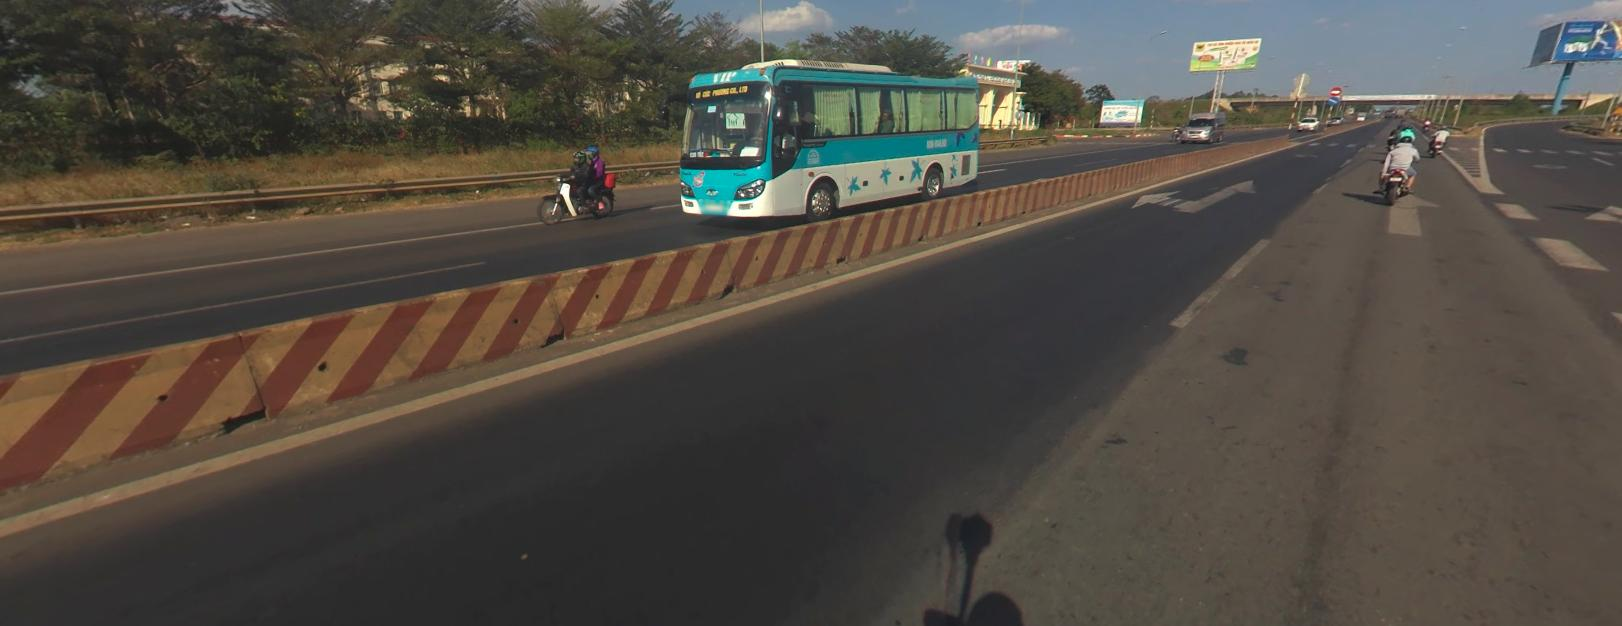Cam nguoc chieu: (1329, 85, 1341, 95)
Hieu lenh: (1327, 96, 1338, 105)
